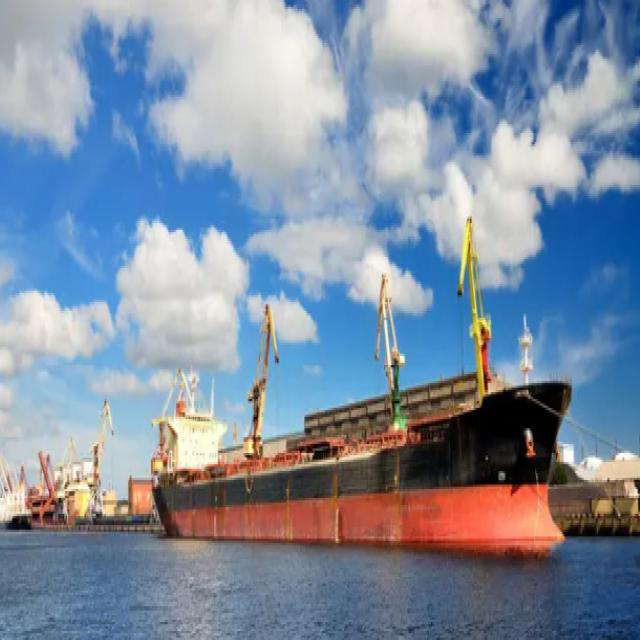cargoship: (144, 280, 576, 564)
